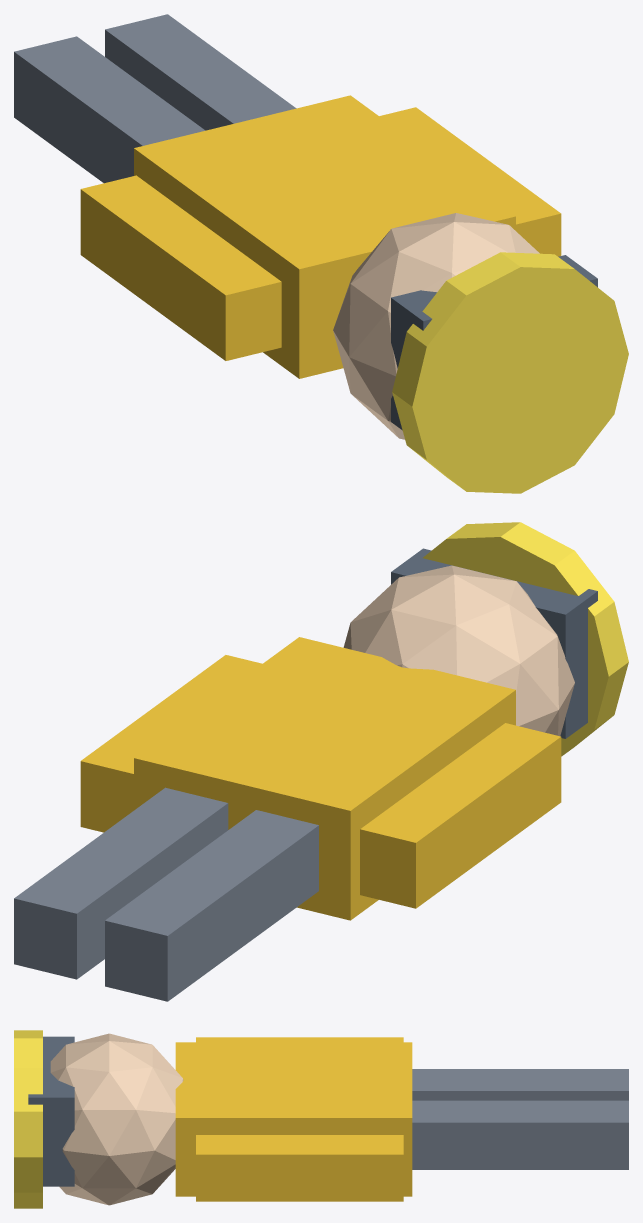
File: safety.glb
3 renders of one model, top to bottom at view 1: azimuth 30°, elevation 25°; view 2: azimuth 150°, elevation 25°; view 3: azimuth 270°, elevation 25°, orthographic. The views are drawn at different scales.
Visible parts, largest first — view 1: torso_2, helmet_7, arm_l_3, leg_l_0, head_5, leg_r_1, arm_r_4, hair_6; view 2: torso_2, leg_l_0, arm_l_3, head_5, leg_r_1, helmet_7, arm_r_4, hair_6; view 3: torso_2, head_5, leg_r_1, arm_r_4, leg_l_0, helmet_7, hair_6, arm_l_3.
Part boxes in pixels (box(x1,y1,x2,y2)): torso_2: box(134, 95, 515, 378); helmet_7: box(392, 252, 628, 493); arm_l_3: box(80, 175, 281, 360); leg_l_0: box(14, 36, 205, 183); head_5: box(333, 213, 539, 439); leg_r_1: box(105, 14, 296, 130); arm_r_4: box(379, 107, 561, 256); hair_6: box(391, 255, 597, 430); torso_2: box(134, 637, 515, 920); leg_l_0: box(105, 810, 318, 1001); arm_l_3: box(360, 723, 561, 908); head_5: box(343, 565, 574, 736); leg_r_1: box(14, 787, 228, 979); helmet_7: box(423, 522, 628, 756); arm_r_4: box(80, 655, 262, 832); hair_6: box(391, 548, 597, 738); torso_2: box(175, 1042, 412, 1196); head_5: box(50, 1033, 183, 1205); leg_r_1: box(412, 1100, 628, 1169); arm_r_4: box(196, 1135, 403, 1201); leg_l_0: box(412, 1069, 628, 1100); helmet_7: box(14, 1030, 42, 1208); hair_6: box(28, 1036, 74, 1186); arm_l_3: box(196, 1037, 403, 1042).
Bounding box in the file's own units: 0.96 × 0.62 × 2.13.
